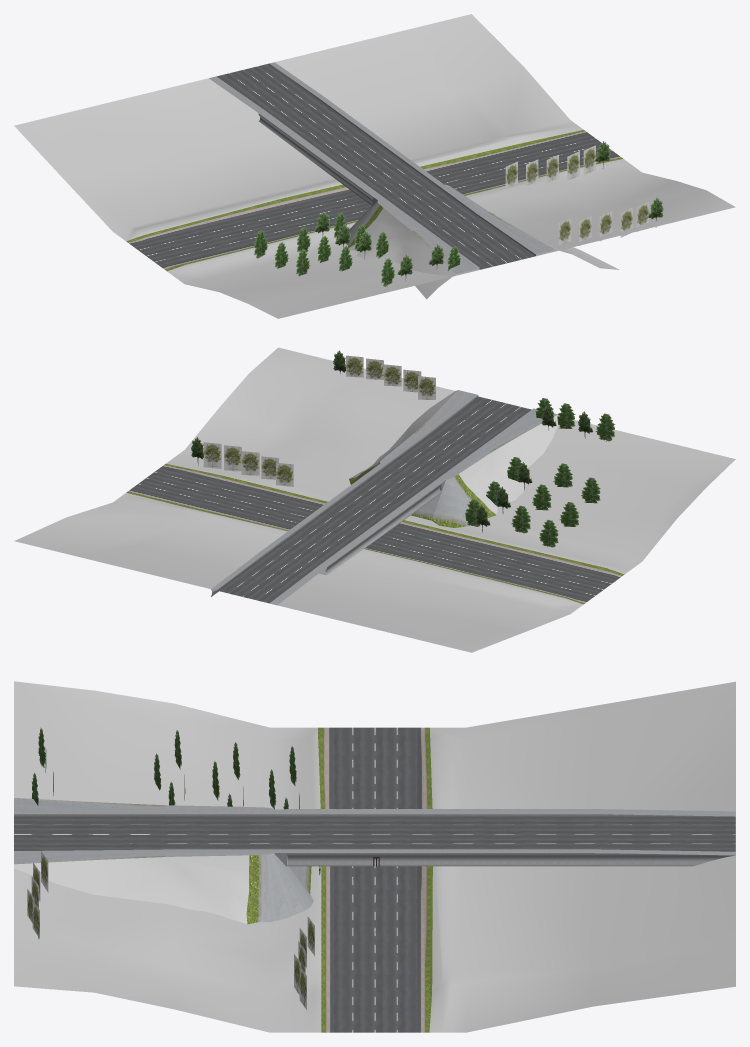
File: area7.FBX
3 renders of one model, top to bottom at view 1: azimuth 30°, elevation 25°; view 2: azimuth 150°, elevation 25°; view 3: azimuth 270°, elevation 25°, orthographic. The views are drawn at different scales.
Visible parts, largest first — view 1: road, m7, rightGrow; view 2: road, m7, rightGrow; view 3: road, m7, rightGrow.
Part boxes in pixels (<box>): road: <box>14,14,735,318</box>; m7: <box>209,62,619,299</box>; rightGrow: <box>254,141,663,286</box>; road: <box>14,347,735,652</box>; m7: <box>211,390,559,605</box>; rightGrow: <box>191,350,615,547</box>; road: <box>14,681,735,1032</box>; m7: <box>14,798,735,924</box>; rightGrow: <box>27,727,320,1009</box>.
Size of the model in its own units: 12000 by 1504 by 12001.
